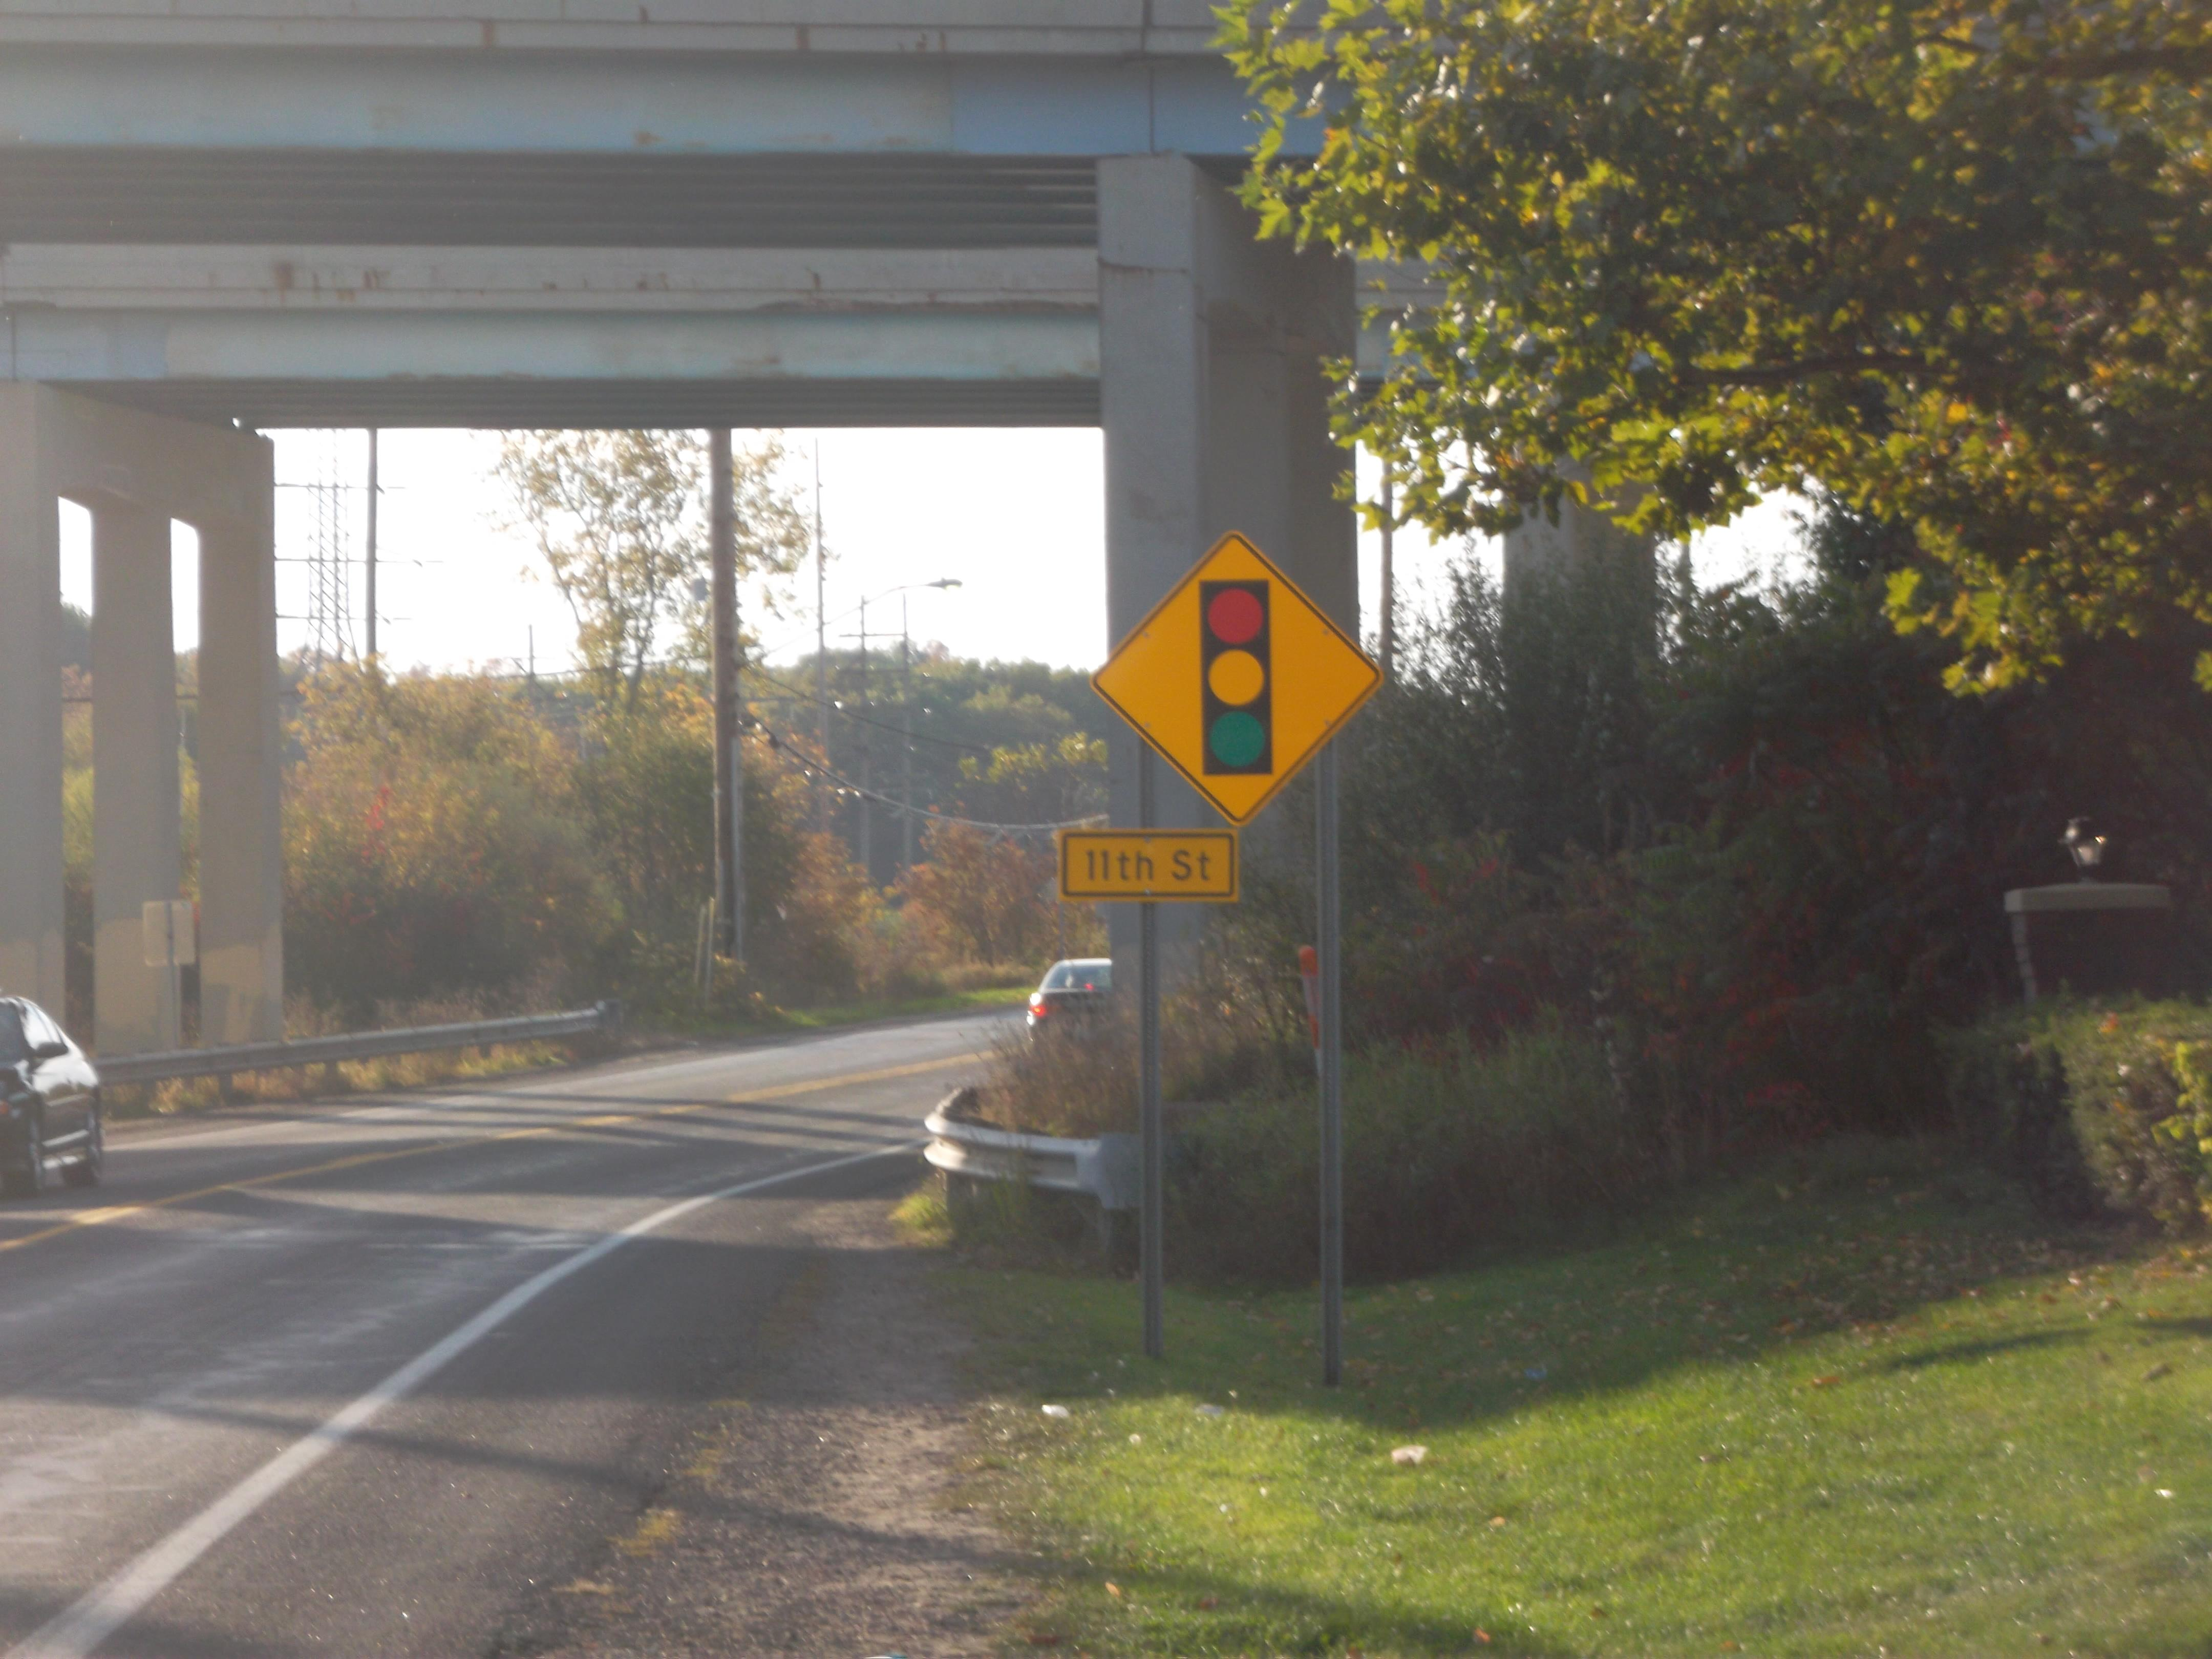warning: (1089, 530, 1386, 828)
